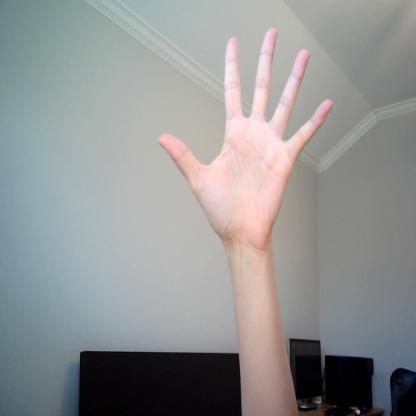five: (159, 21, 336, 258)
